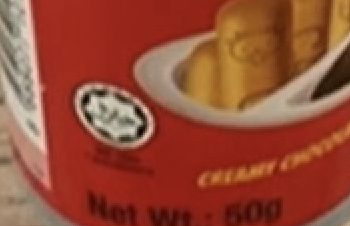halal: (92, 102, 139, 129)
